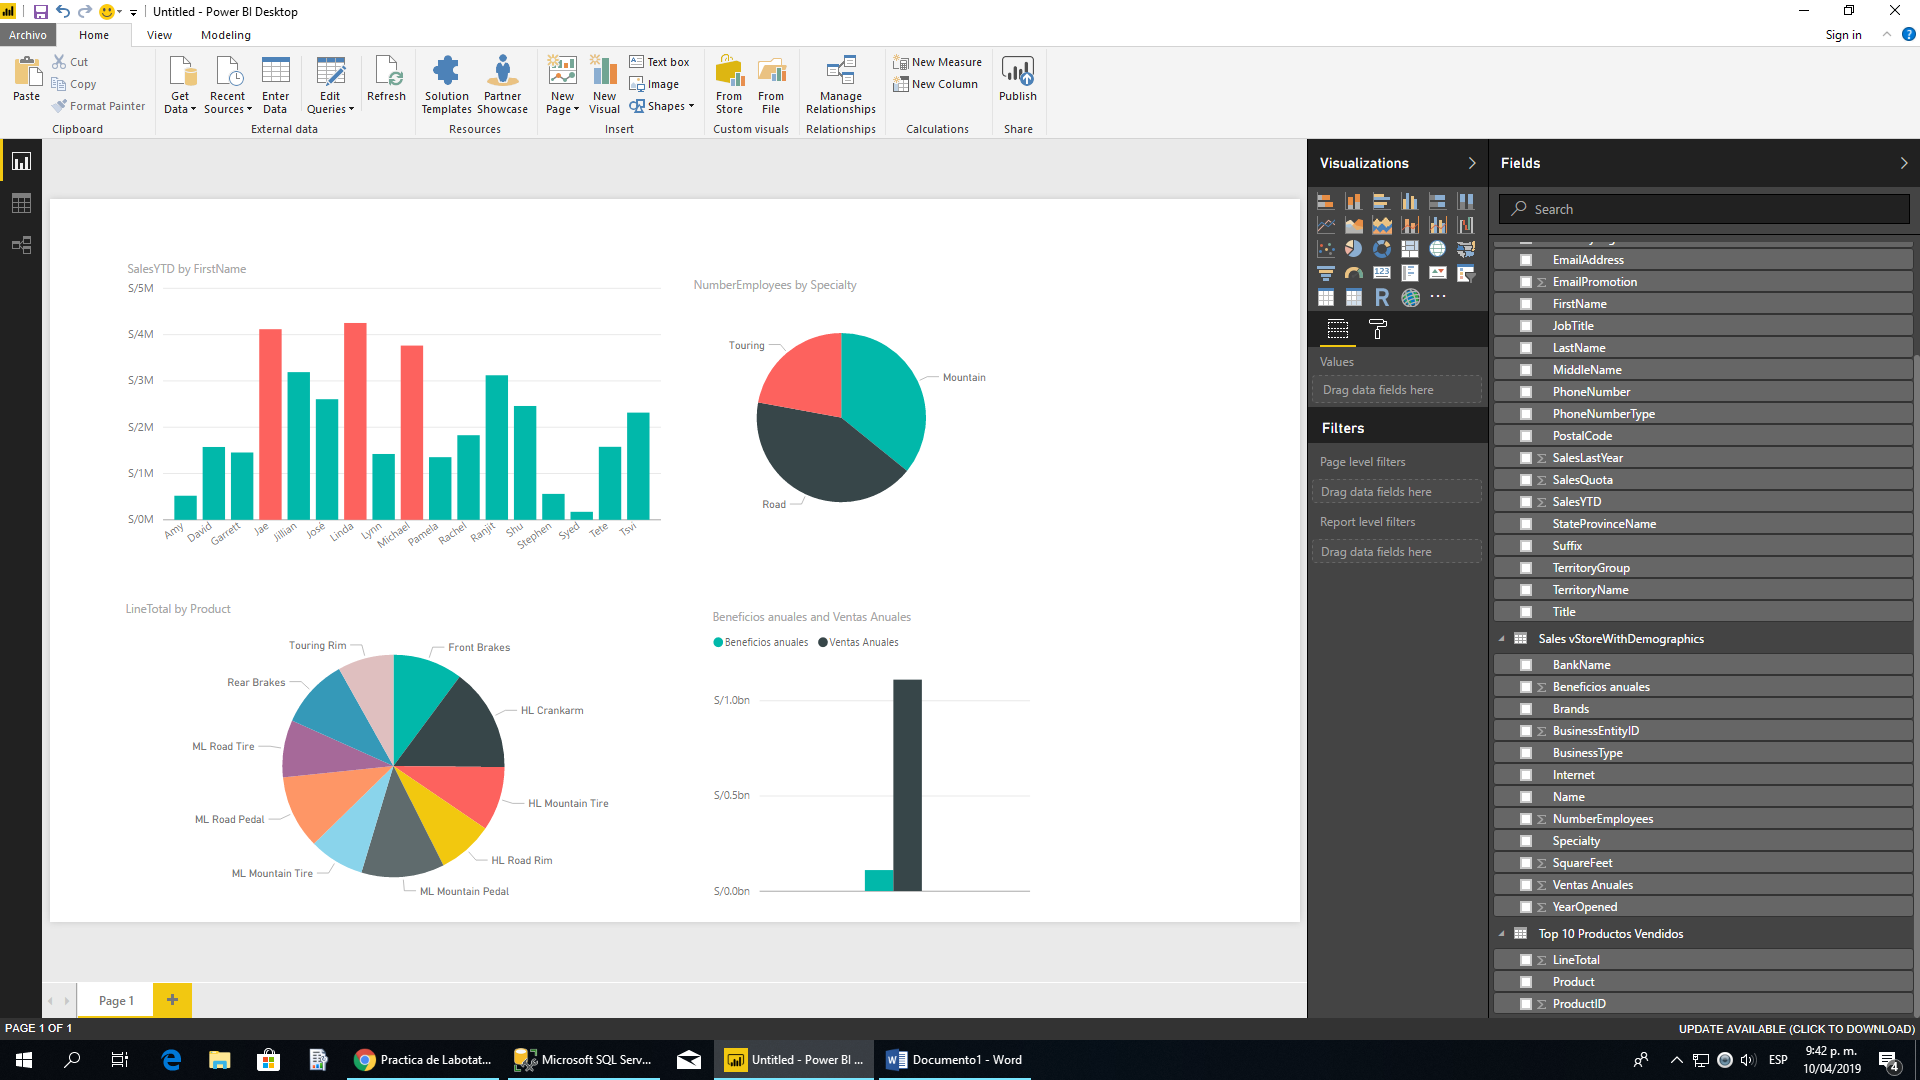

This screenshot's page, from the dashboard's own definition file:
{"tool":"powerbi","page":{"name":"Ventas","canvas":[1280,720],"ordinal":0},"visuals":[{"type":"columnChart","fields":{"Category":["Sales vSalesPerson.FirstName"],"Y":["Sum(Sales vSalesPerson.SalesYTD)"]},"box":[74.8,42,556,307.2],"z":1},{"type":"pieChart","fields":{"Category":["Sales vStoreWithDemographics.Specialty"],"Y":["Sum(Sales vStoreWithDemographics.NumberEmployees)"]},"box":[654.3,58.4,312.3,274.4],"z":2},{"type":"pieChart","fields":{"Category":["Top 10 Productos Vendidos.Product"],"Y":["Sum(Top 10 Productos Vendidos.LineTotal)"]},"box":[72.7,390.1,558.1,323.6],"z":3},{"type":"clusteredColumnChart","fields":{"Y":["Sum(Sales vStoreWithDemographics.AnnualRevenue)","Sum(Sales vStoreWithDemographics.AnnualSales)"]},"box":[673.8,398.3,335.9,303.1],"z":4}]}

Visuals, with their boxes on the page's 1280x720 design canvas (x1, y1, x2, y2). These are canvas units, not pixel positions in the 1920x1080 screenshot, which may show the page scaled, cropped or inside an application window:
columnChart - Sales vSalesPerson.FirstName x Sum(Sales vSalesPerson.SalesYTD): 75,42,631,349
pieChart - Sales vStoreWithDemographics.Specialty x Sum(Sales vStoreWithDemographics.NumberEmployees): 654,58,967,333
pieChart - Top 10 Productos Vendidos.Product x Sum(Top 10 Productos Vendidos.LineTotal): 73,390,631,714
clusteredColumnChart - Sum(Sales vStoreWithDemographics.AnnualRevenue) x Sum(Sales vStoreWithDemographics.AnnualSales): 674,398,1010,701
